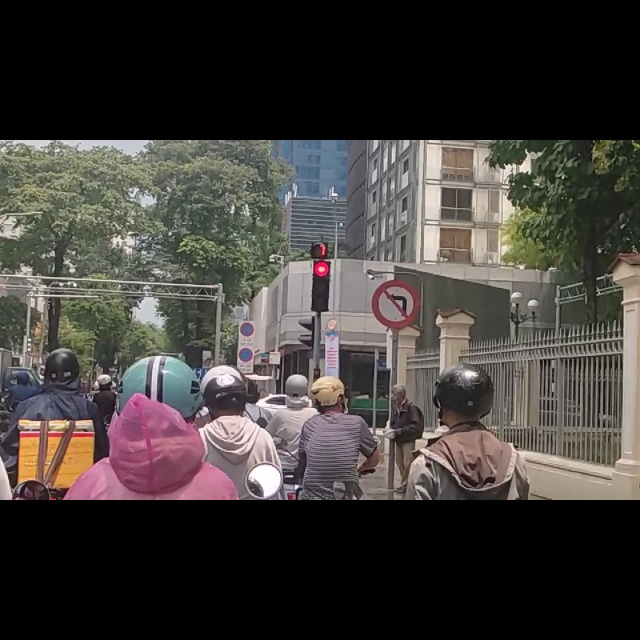bien_cam: (371, 243, 420, 338), (239, 322, 253, 348), (239, 369, 253, 395)
